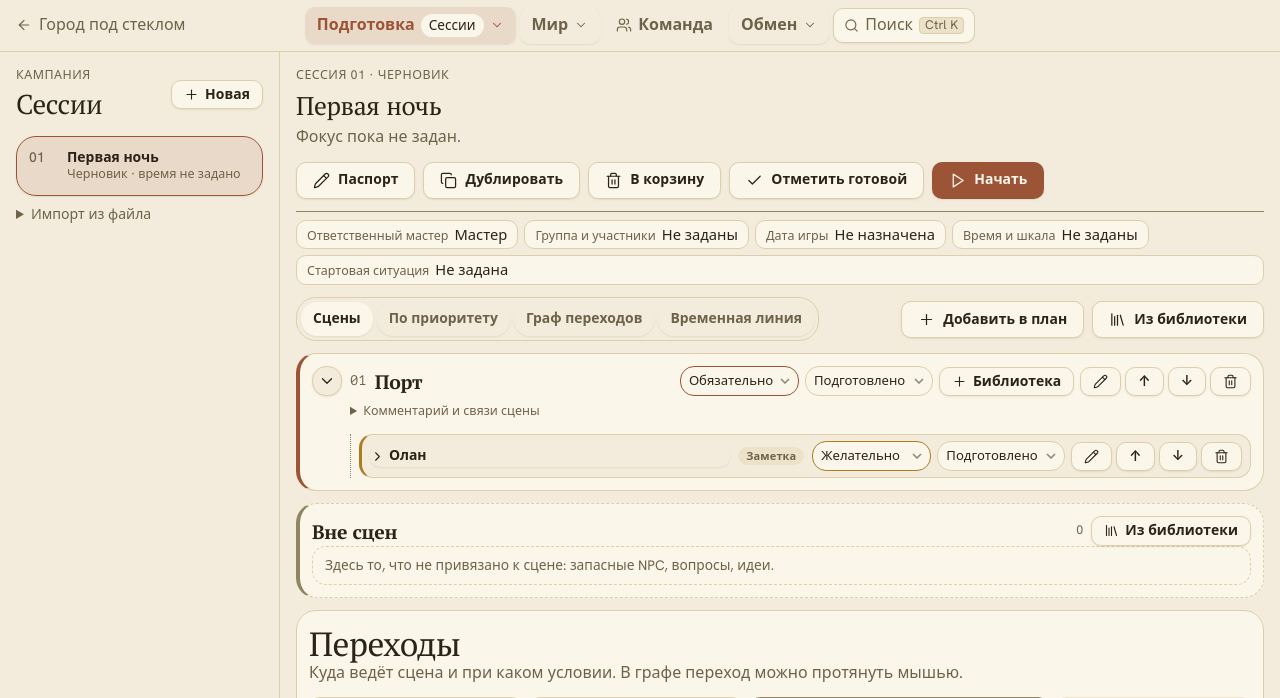
Test: ТЗ-3, этап 5: удаление — подтверждение или отмена › asks before removing a scene with members and lists what happens to them
The image size is (1280, 698).
Click the button named "Убрать Порт из сессии". click: x=1230, y=381
box: [1210, 367, 1251, 396]
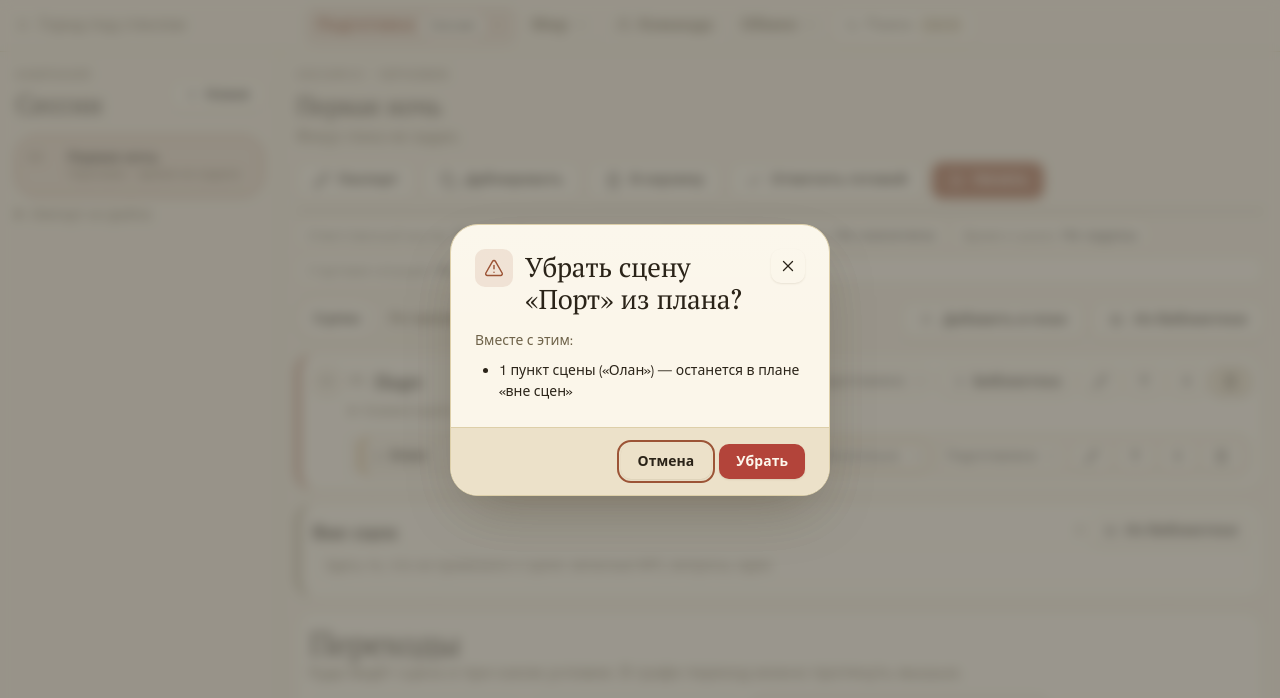
Expected: the list item "1 пункт сцены («Олан») — останется в плане «вне сцен»" is shown, [499, 360, 805, 403]
Click the button "Отмена". click: x=666, y=461
box: [620, 444, 711, 479]
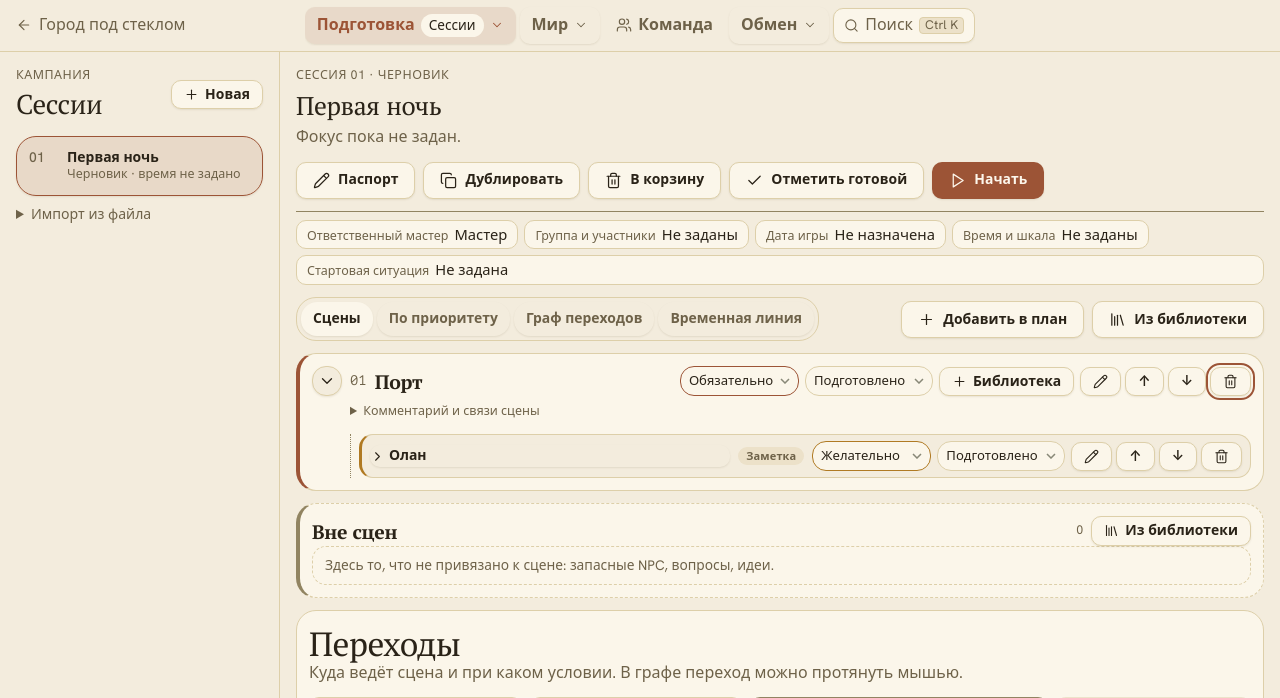
Expected: the element named "Сцена: Порт" is shown, [296, 353, 1264, 491]
Click the button named "Убрать Порт из сессии". click: x=1230, y=381
box: [1210, 367, 1251, 396]
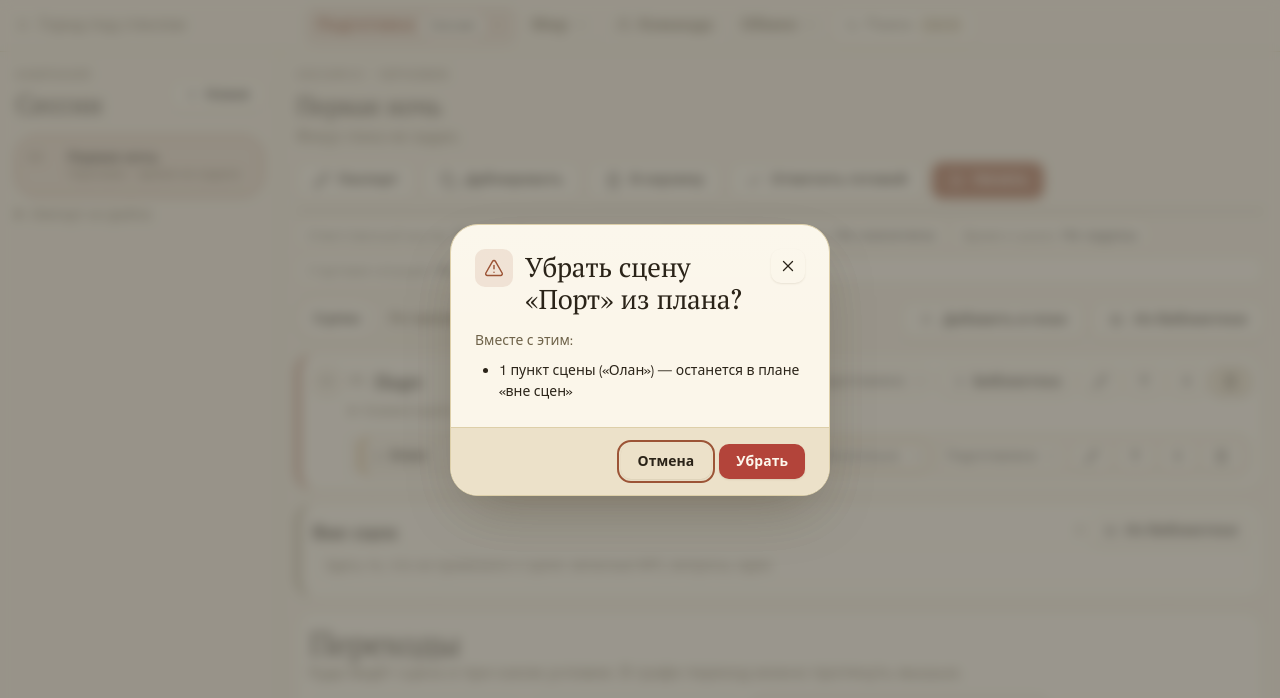
Click the button "Убрать". click: x=762, y=461
box: [719, 444, 805, 479]
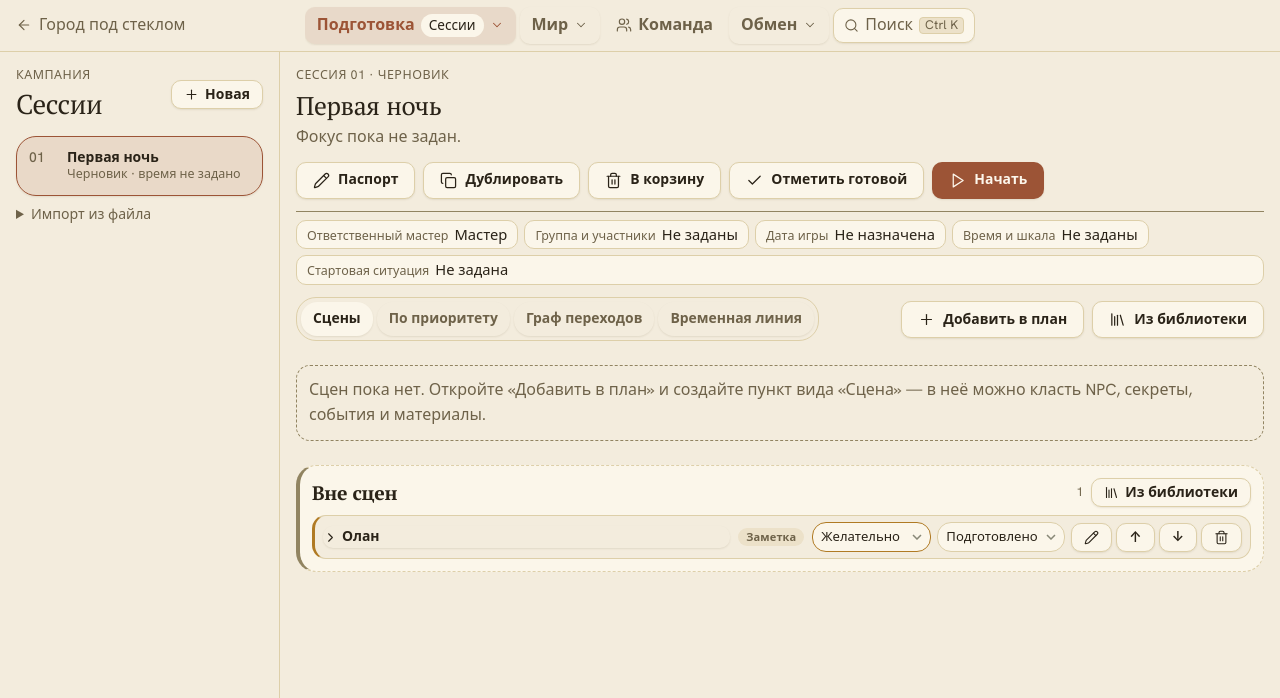
Expected: the element named "Пункт плана: Олан" is shown, [312, 515, 1251, 559]
Expected: the button "Сцена: Порт" is gone
